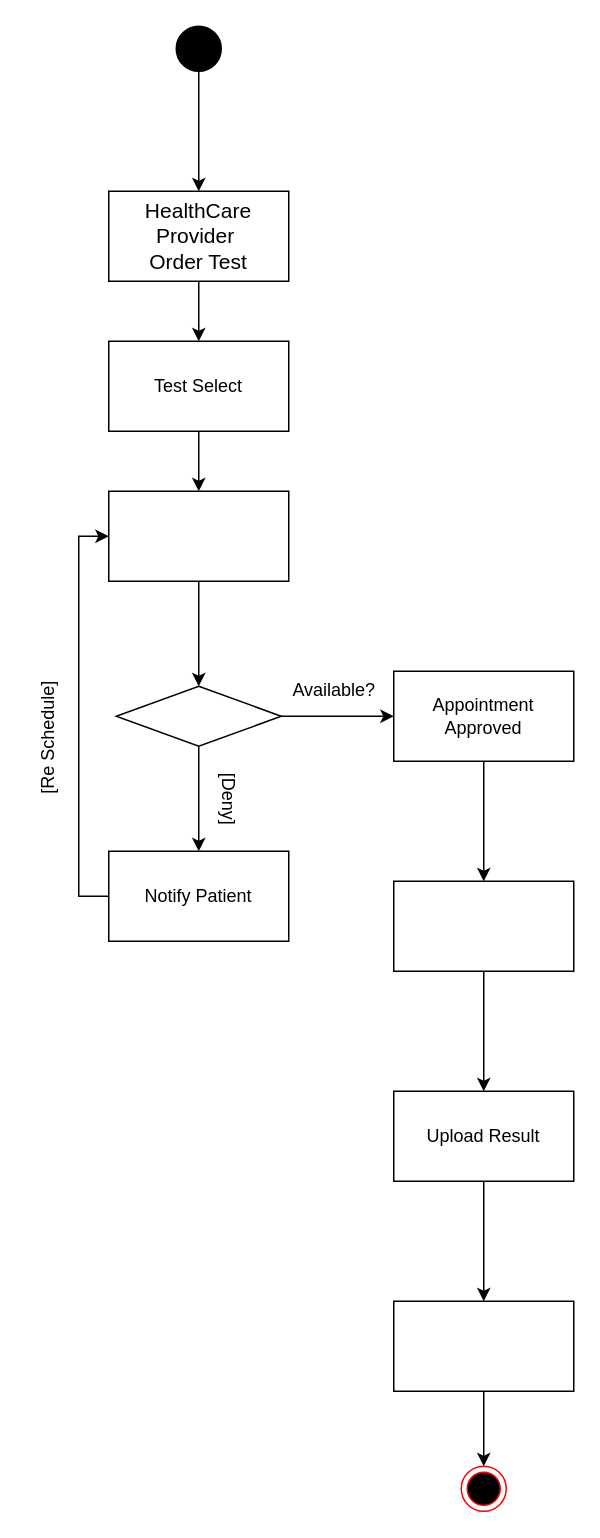
This 600x1538 diagram has some shape labels left out. Here are the shapes that lost their labels. From the top down, the box of each, then its label:
(107, 490, 289, 581): Schedule Appointment
(392, 880, 574, 971): Perform Test
(392, 1300, 574, 1391): Review Results
